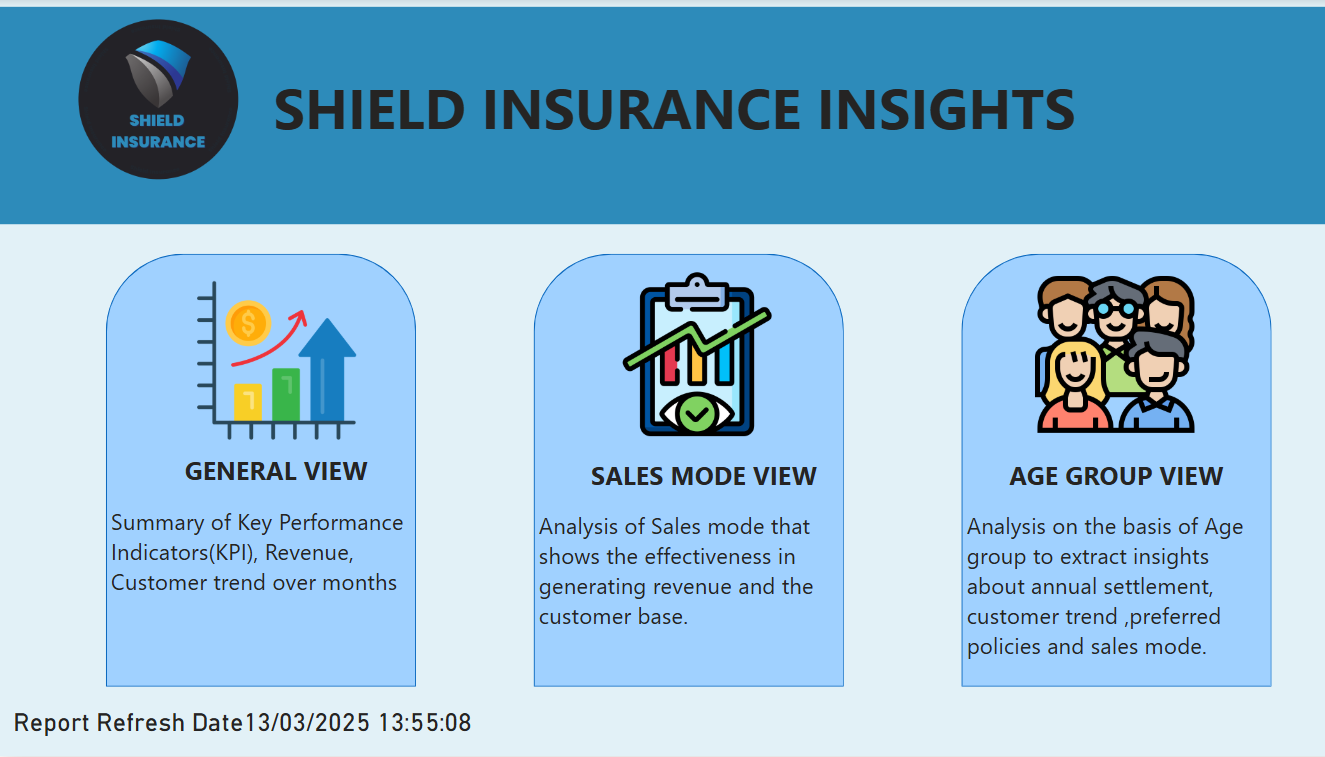

The dashboard page shown, as its layout file describes it:
{"tool":"powerbi","page":{"name":"Home","canvas":[1280,720],"ordinal":0},"visuals":[{"type":"shape","box":[912.7,241.8,294.5,410.9],"z":0},{"type":"shape","box":[506.4,241.8,294.5,410.9],"z":1000},{"type":"shape","box":[100,241.8,294.5,410.9],"z":2000},{"type":"textbox","box":[0,9,1280.6,206.2],"z":3000},{"type":"image","box":[567.3,254.5,189.1,165.5],"z":4000},{"type":"image","box":[978.2,249.1,163.6,178.2],"z":5000},{"type":"image","box":[182.7,255,161,177.3],"z":6000},{"type":"image","box":[59.7,9,179.1,175.4],"z":7000},{"type":"textbox","box":[100,427.3,323.6,205.5],"z":8000},{"type":"textbox","box":[505.5,430.9,323.6,205.5],"z":9000},{"type":"textbox","box":[912.7,430.9,294.5,205.5],"z":10000},{"type":"card","fields":{"Values":["Key Metrics.LastRefreshDate"]},"box":[0,653.3,394.1,67.4],"z":11000}]}

Visuals, with their boxes in screenshot pixels (x1, y1, x2, y2), scaled from the page's 1280x720 canvas onto the 1325x757 screenshot:
shape: [945,254,1250,686]
shape: [524,254,829,686]
shape: [104,254,408,686]
textbox: [0,9,1324,226]
image: [587,268,783,442]
image: [1013,262,1182,449]
image: [189,268,356,455]
image: [62,9,247,194]
textbox: [104,449,438,665]
textbox: [523,453,858,669]
textbox: [945,453,1250,669]
card - Key Metrics.LastRefreshDate: [0,687,408,756]
